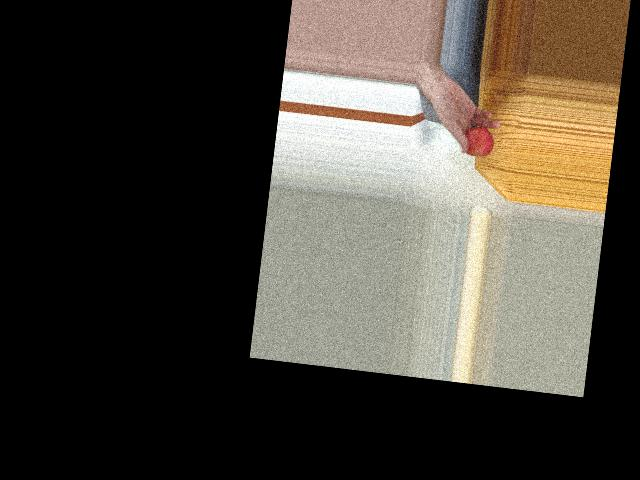apple: (461, 123, 496, 161)
